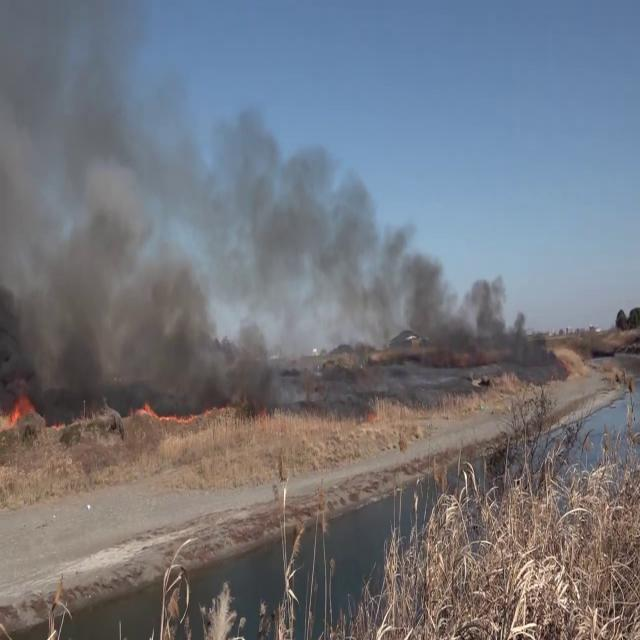Fire: (0, 380, 39, 432)
Smoke: (1, 77, 549, 410)
